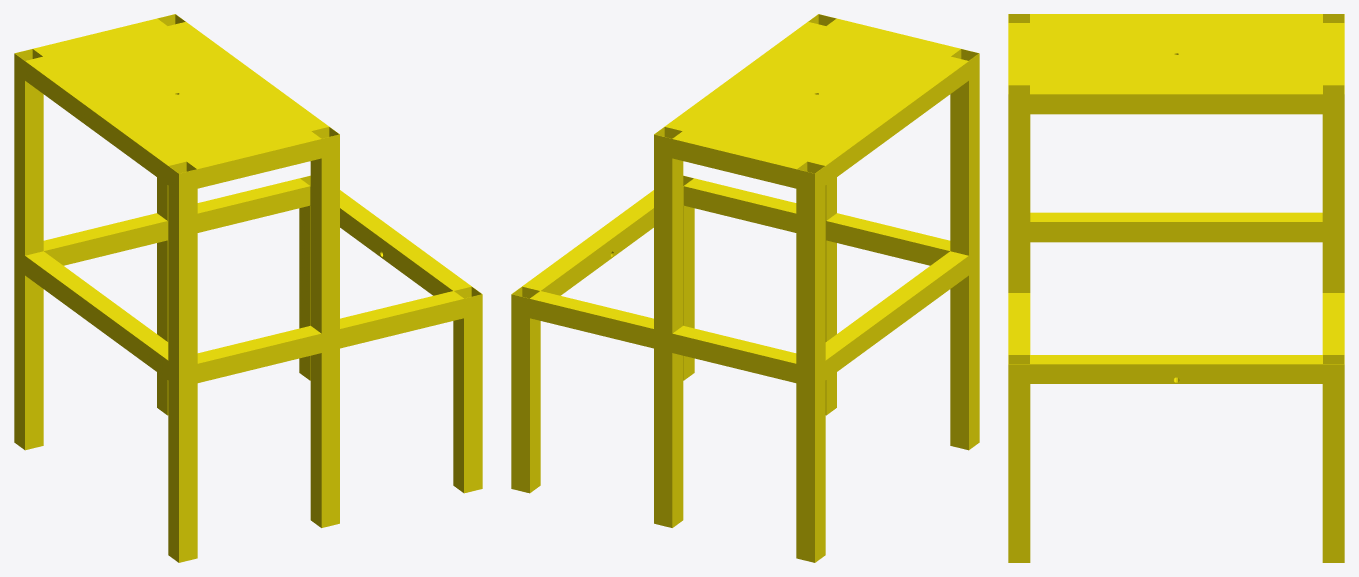
Rendered from Suporte_Link.dae.
The picture shows the model from 3 angles, left to right: view 1: azimuth 30°, elevation 25°; view 2: azimuth 150°, elevation 25°; view 3: azimuth 270°, elevation 25°; orthographic projection. The views are drawn at different scales.
Parts seen in each view (by area): view 1: Suporte Link; view 2: Suporte Link; view 3: Suporte Link.
Part boxes in pixels (box(x1,y1,x2,y2)): Suporte Link: box(14, 14, 482, 562); Suporte Link: box(511, 14, 979, 562); Suporte Link: box(1008, 14, 1344, 562).
Size of the model in its own units: 0.49 by 0.46 by 0.6.
